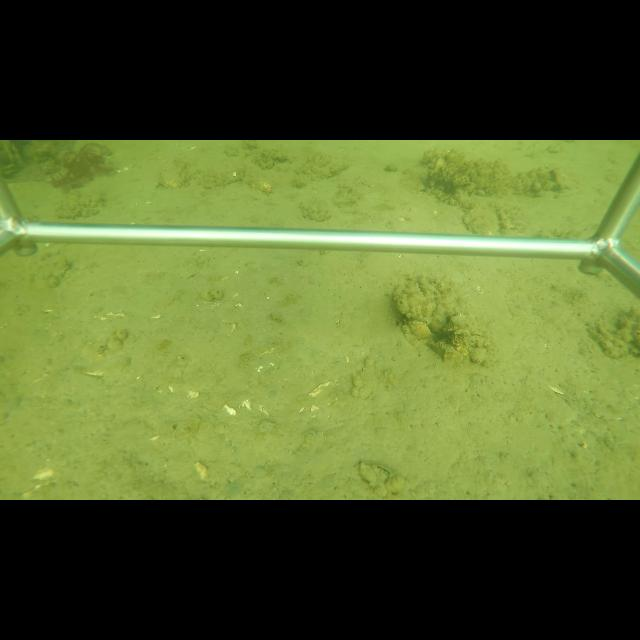Oyster-Closed: (359, 458, 394, 496)
